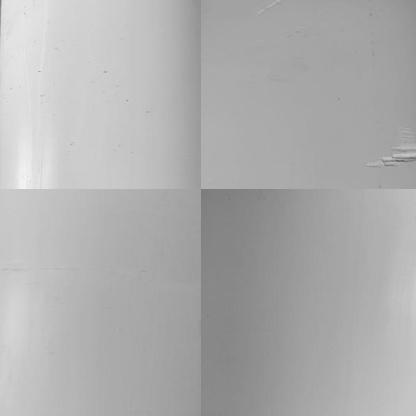sunshang: (366, 138, 416, 167)
